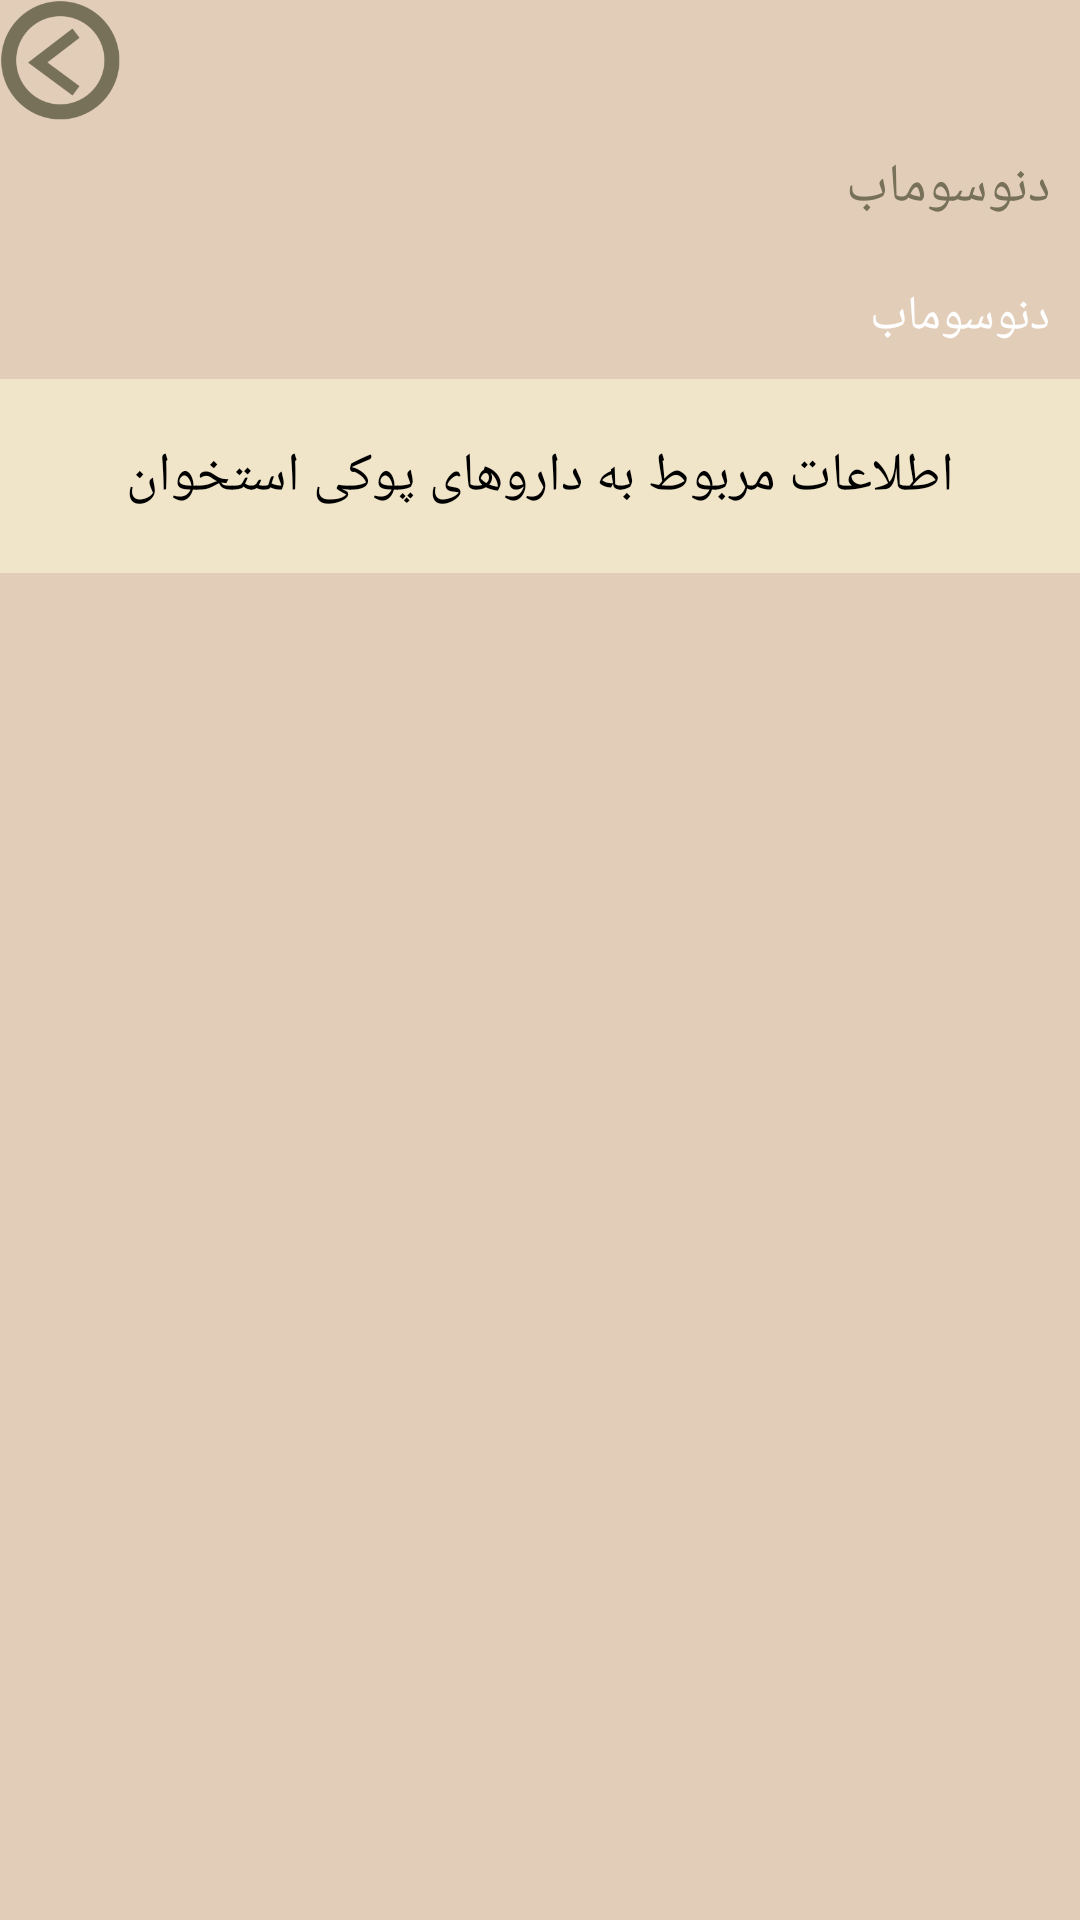

Icon click points for this 1080px×1920px phone screenshot, format (x=x, y=y):
arrow left: (x=60, y=60)
